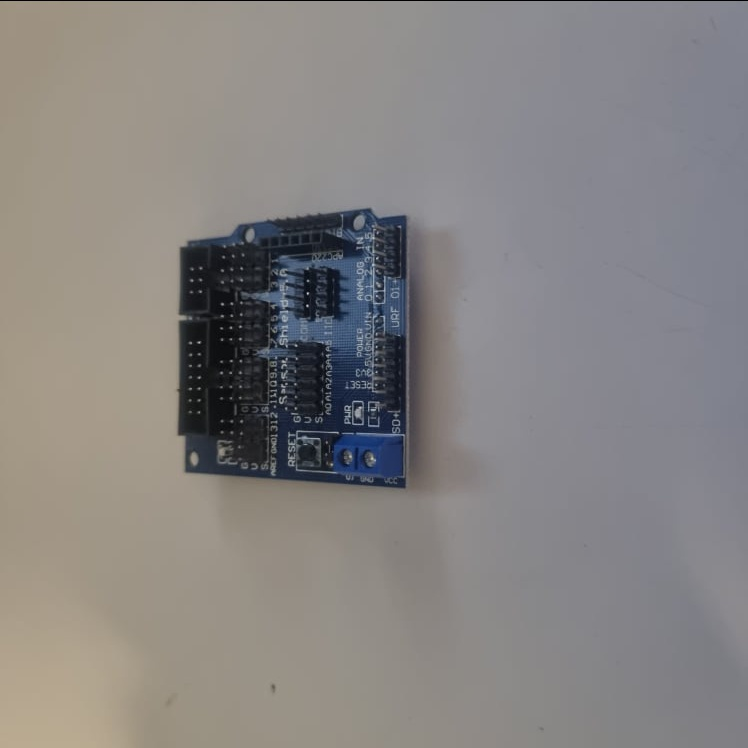5V EXPANSION: (171, 202, 414, 490)
